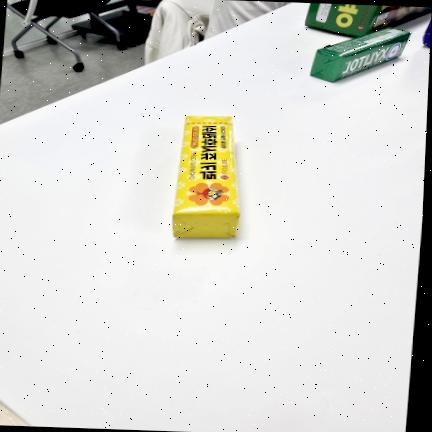gum_green: (310, 28, 411, 82)
gum_yellow: (173, 116, 239, 238)
